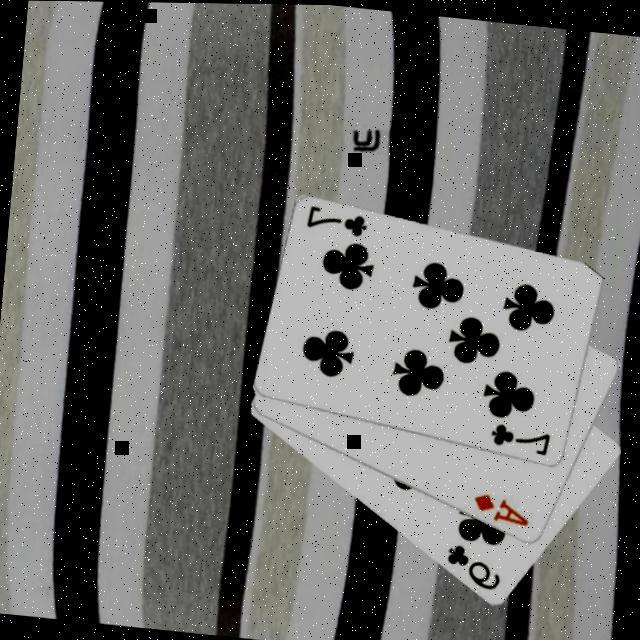6C: (441, 541, 506, 595)
7C: (303, 202, 372, 242), (487, 420, 555, 460)
AD: (468, 490, 534, 530)
